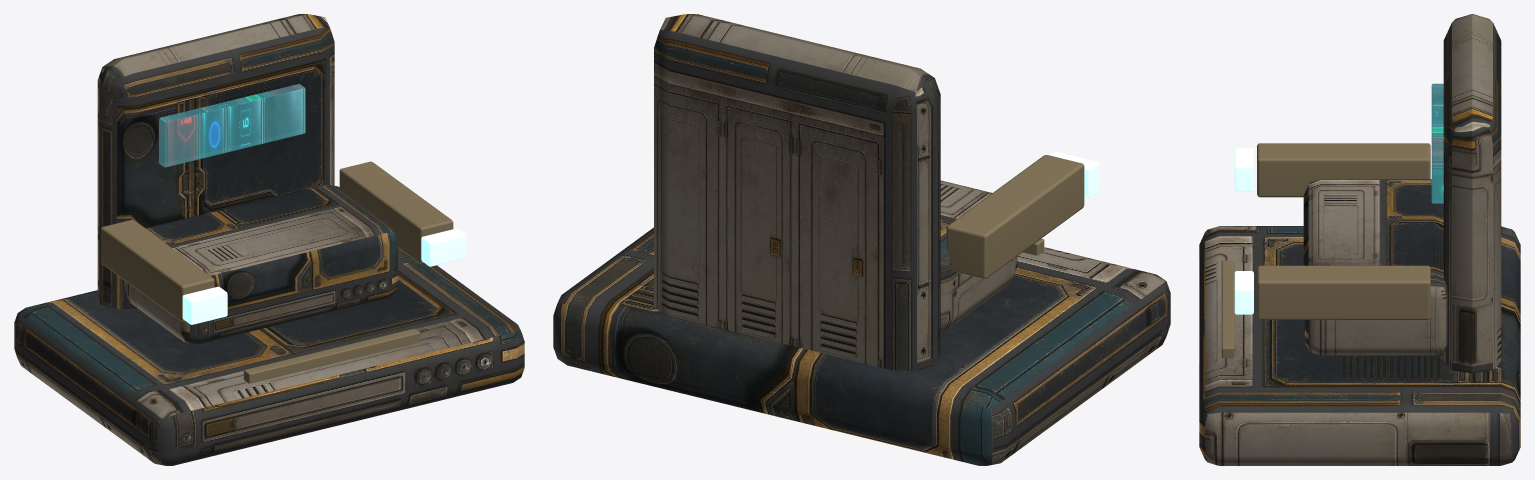
Rendered from hp_room_service_robot_dock_residential.glb.
3 renders of one model, left to right at view 1: azimuth 30°, elevation 25°; view 2: azimuth 150°, elevation 25°; view 3: azimuth 270°, elevation 25°, orthographic. The views are drawn at different scales.
Visible parts, largest first — view 1: central_empty_cradle_space, rear_power_column, dock_side_clamp_arm, rear_charge_status_screen_image2, dock_cyan_charge_tip; view 2: rear_power_column, central_empty_cradle_space, dock_side_clamp_arm, dock_cyan_charge_tip; view 3: central_empty_cradle_space, rear_power_column, dock_side_clamp_arm, dock_cyan_charge_tip, rear_charge_status_screen_image2.
Part boxes in pixels (x1=…): central_empty_cradle_space: x1=14, y1=184, x2=524, y2=465; rear_power_column: x1=97, y1=14, x2=334, y2=309; dock_side_clamp_arm: x1=101, y1=161, x2=453, y2=383; rear_charge_status_screen_image2: x1=159, y1=84, x2=305, y2=167; dock_cyan_charge_tip: x1=182, y1=228, x2=466, y2=324; rear_power_column: x1=654, y1=14, x2=940, y2=371; central_empty_cradle_space: x1=553, y1=180, x2=1170, y2=465; dock_side_clamp_arm: x1=946, y1=155, x2=1084, y2=278; dock_cyan_charge_tip: x1=1051, y1=152, x2=1099, y2=197; central_empty_cradle_space: x1=1199, y1=179, x2=1520, y2=465; rear_power_column: x1=1443, y1=14, x2=1501, y2=373; dock_side_clamp_arm: x1=1221, y1=143, x2=1430, y2=358; dock_cyan_charge_tip: x1=1234, y1=148, x2=1253, y2=314; rear_charge_status_screen_image2: x1=1431, y1=83, x2=1443, y2=203.
Bounding box in the file's own units: 1.29 × 0.9898 × 0.9133.
5 materials, 3 textured.
